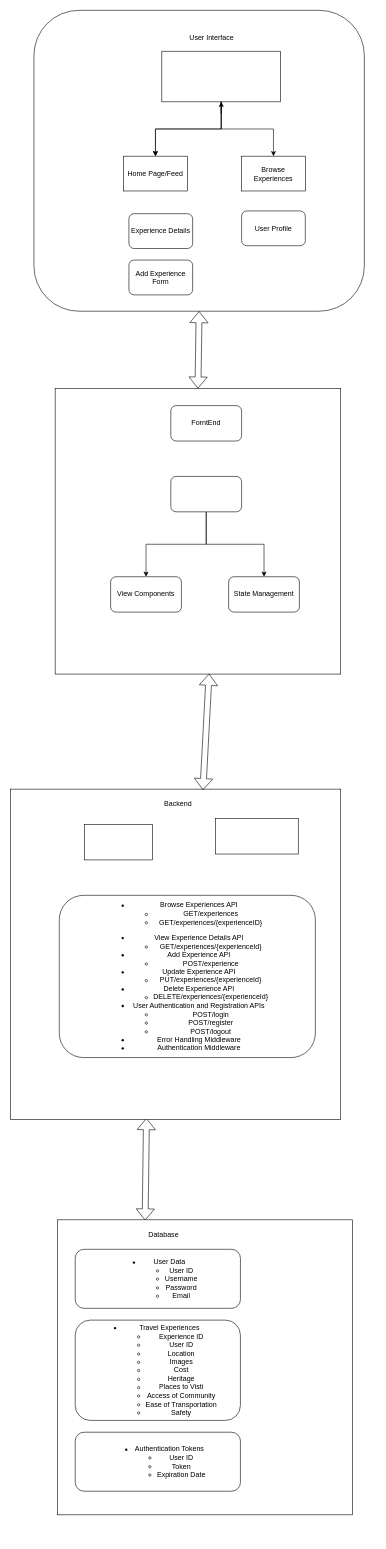
Some shapes in this 386 by 1549 pixel diagram are drawn without their labels. The centre of each missing label's shape, as x and y in pixels:
"API Endpoints" belongs at pixel 118 842.
"Frontend Components(UI rendering, user interactions)" belongs at pixel 221 76.
"Middleware" belongs at pixel 256 836.
"Routing & Navigation" belongs at pixel 206 494.
